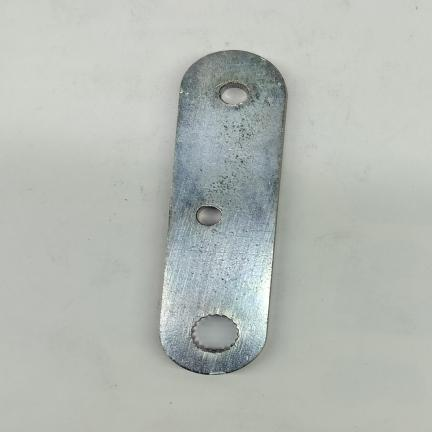black mark after electroplating: (208, 151, 240, 194)
